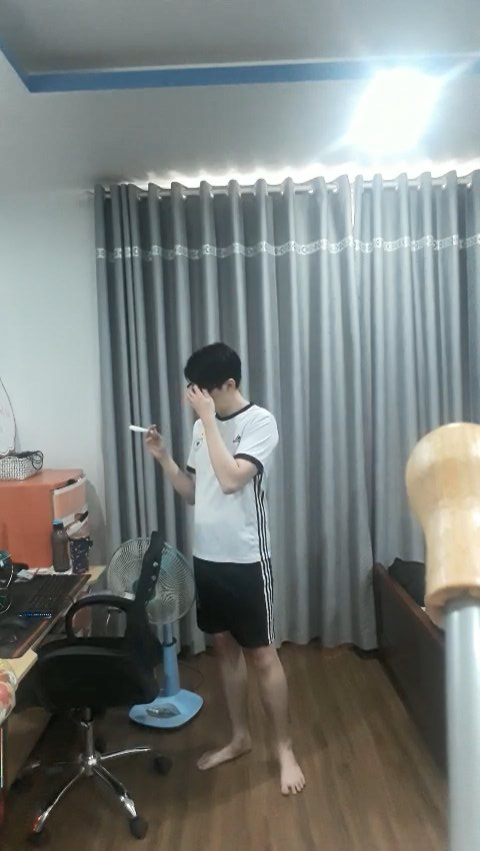cigarette: (128, 420, 152, 435)
person: (159, 340, 320, 803)
